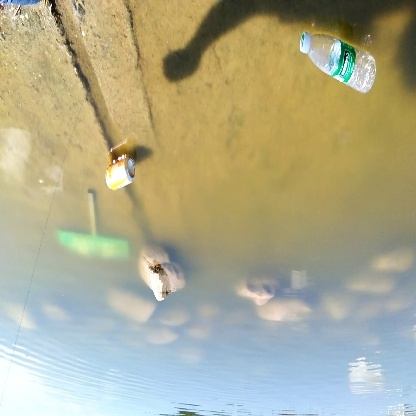bottle: (298, 23, 383, 100)
